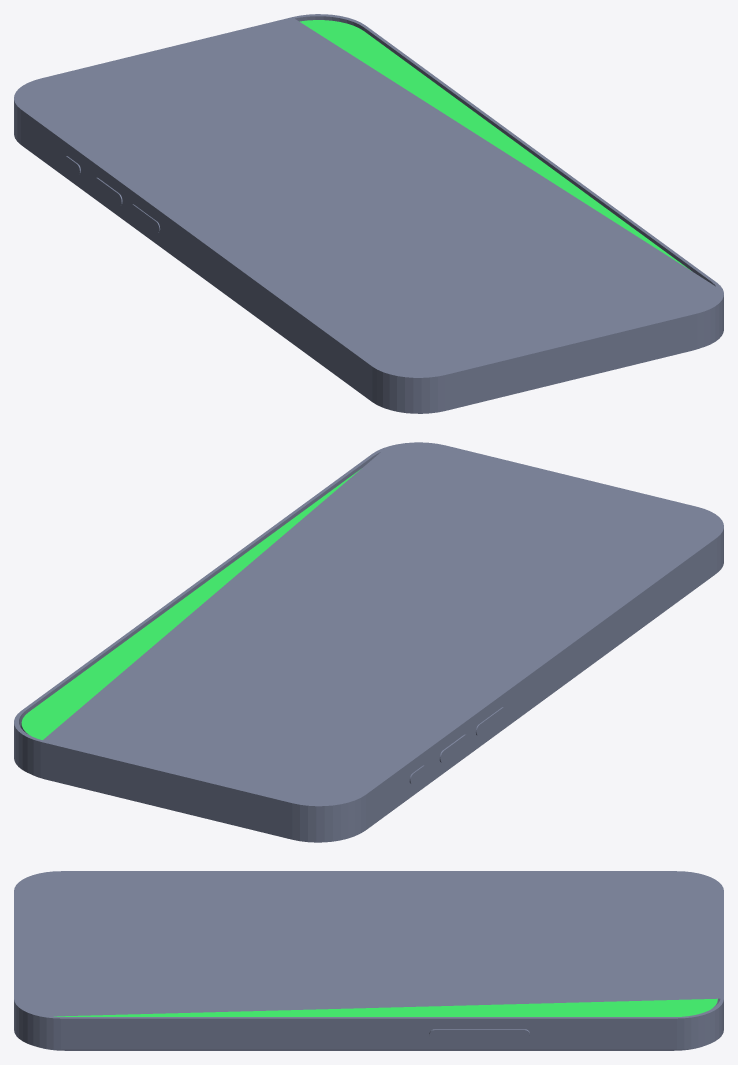
The model's file is MediaArt_Iphone.fbx.
3 views of the same model, one above another, from view 1: azimuth 30°, elevation 25°; view 2: azimuth 150°, elevation 25°; view 3: azimuth 270°, elevation 25° (orthographic). The views are drawn at different scales.
Parts seen in each view (by area): view 1: Phone Body, Phone in Body; view 2: Phone Body, Phone in Body; view 3: Phone Body, Phone in Body, Button4, Phone in Body_2.
Part boxes in pixels (x1,y1,x2,y2): Phone Body: (14,14,723,413); Phone in Body: (299,20,690,270); Phone Body: (14,442,723,841); Phone in Body: (21,469,360,739); Phone Body: (14,871,723,1050); Phone in Body: (54,998,717,1016); Button4: (429,1029,529,1039); Phone in Body_2: (39,998,720,1050).
Bounding box in the file's own units: 233 × 34.8 × 470.
